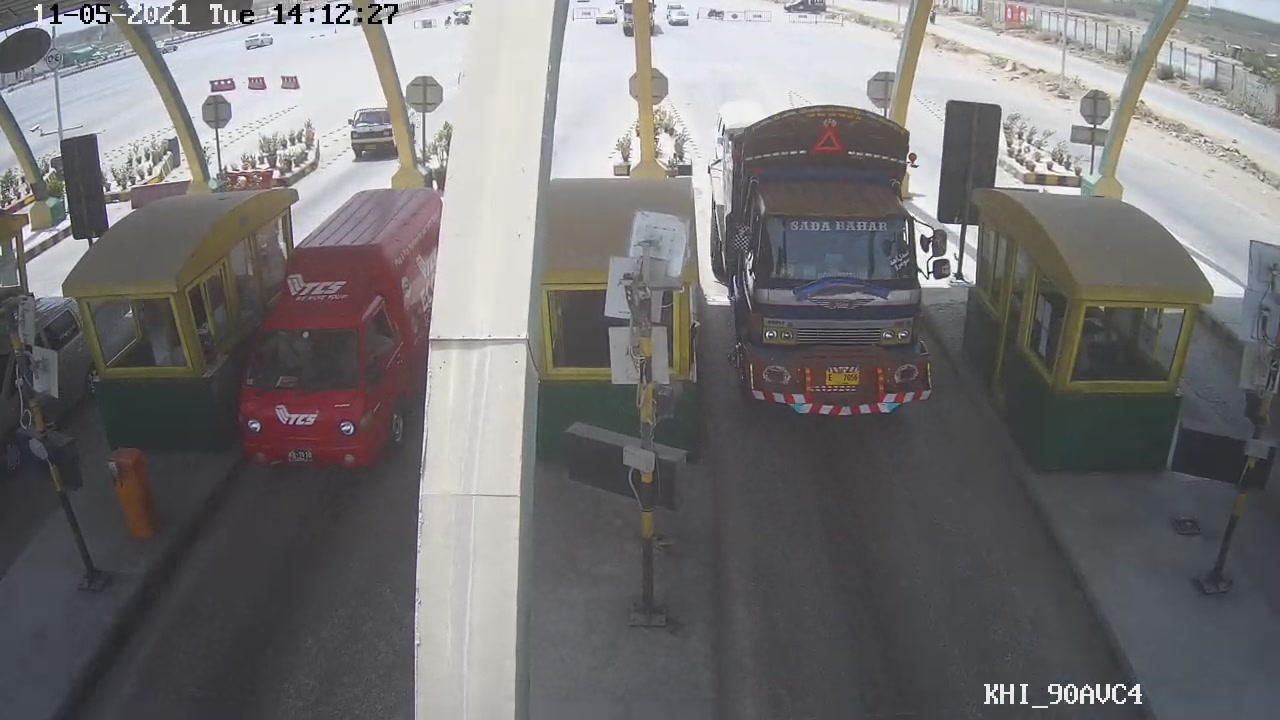F5: (704, 103, 959, 424)
